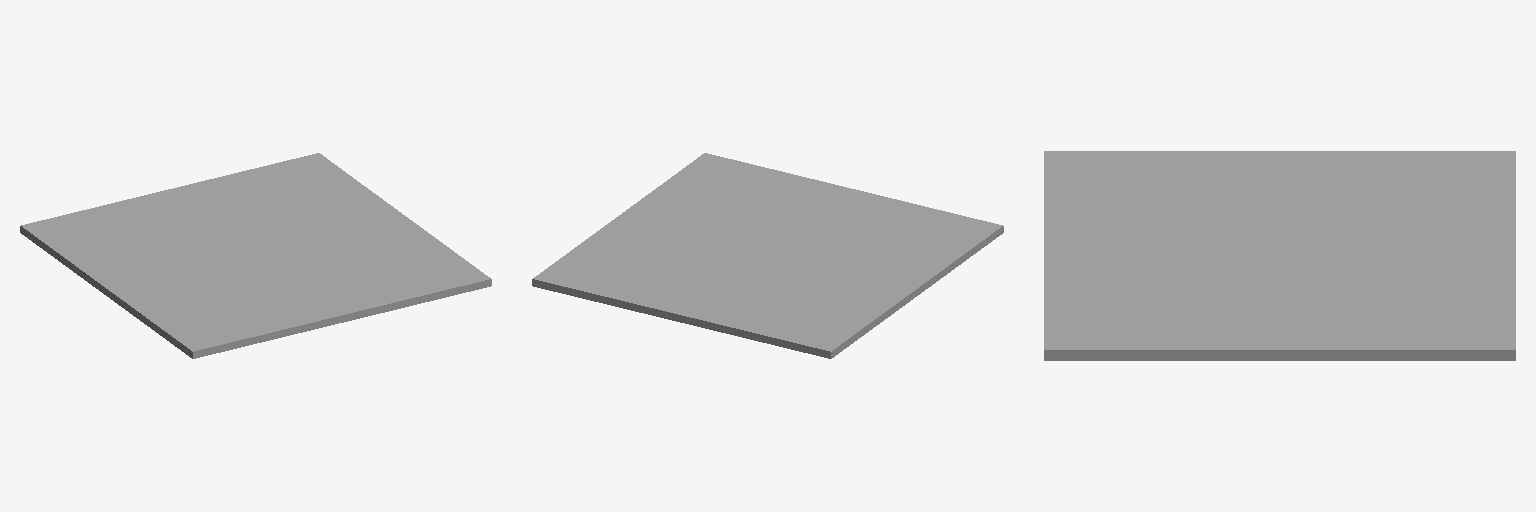
URDF robot description (tray):
<robot name="tray">
  <link name="tray_base_link">
    <contact>
      <lateral_friction value="0.5"/>
      <rolling_friction value="0.0"/>
      <contact_cfm value="0.0"/>
      <contact_erp value="1.0"/>
    </contact>
    <inertial>
      <origin rpy="0 0 0" xyz="0 0 0"/>
      <mass value="0"/>
      <inertia ixx="0" ixy="0" ixz="0" iyy="0" iyz="0" izz="0"/>
    </inertial>
    <visual>
      <origin rpy="0 0 0" xyz="0 0 0"/>
      <geometry>
        <mesh filename="tray_base.obj" scale="0.5 0.5 0.5"/>
      </geometry>
      <material name="tray_material">
        <color rgba="0.7 0.7 0.7 1"/>
      </material>
    </visual>
    <collision>
      <origin rpy="0 0 0" xyz="0 0 0"/>
      <geometry>
        <mesh filename="tray_base.obj" scale="0.5 0.5 0.5"/>
      </geometry>
    </collision>
  </link>
</robot>

--- Render facts (derived) ---
Views: 3 orthographic renders of the robot side by side, from view 1: azimuth 30°, elevation 25°; view 2: azimuth 150°, elevation 25°; view 3: azimuth 270°, elevation 25°.
Model tray with 1 links and 0 joints (none), rooted at tray_base_link, posed every joint at zero.
Visible links, largest first — view 1: tray_base_link; view 2: tray_base_link; view 3: tray_base_link.
Boxes of the visible links, x1,y1,x2,y2 form: tray_base_link: (20,153,491,358); tray_base_link: (532,153,1003,358); tray_base_link: (1044,151,1515,360).
Size in the robot's own frame: 0.42 by 0.42 by 0.01 metres.
Meshes: 1 distinct files referenced, 1 mesh visuals loaded (1 OBJ).